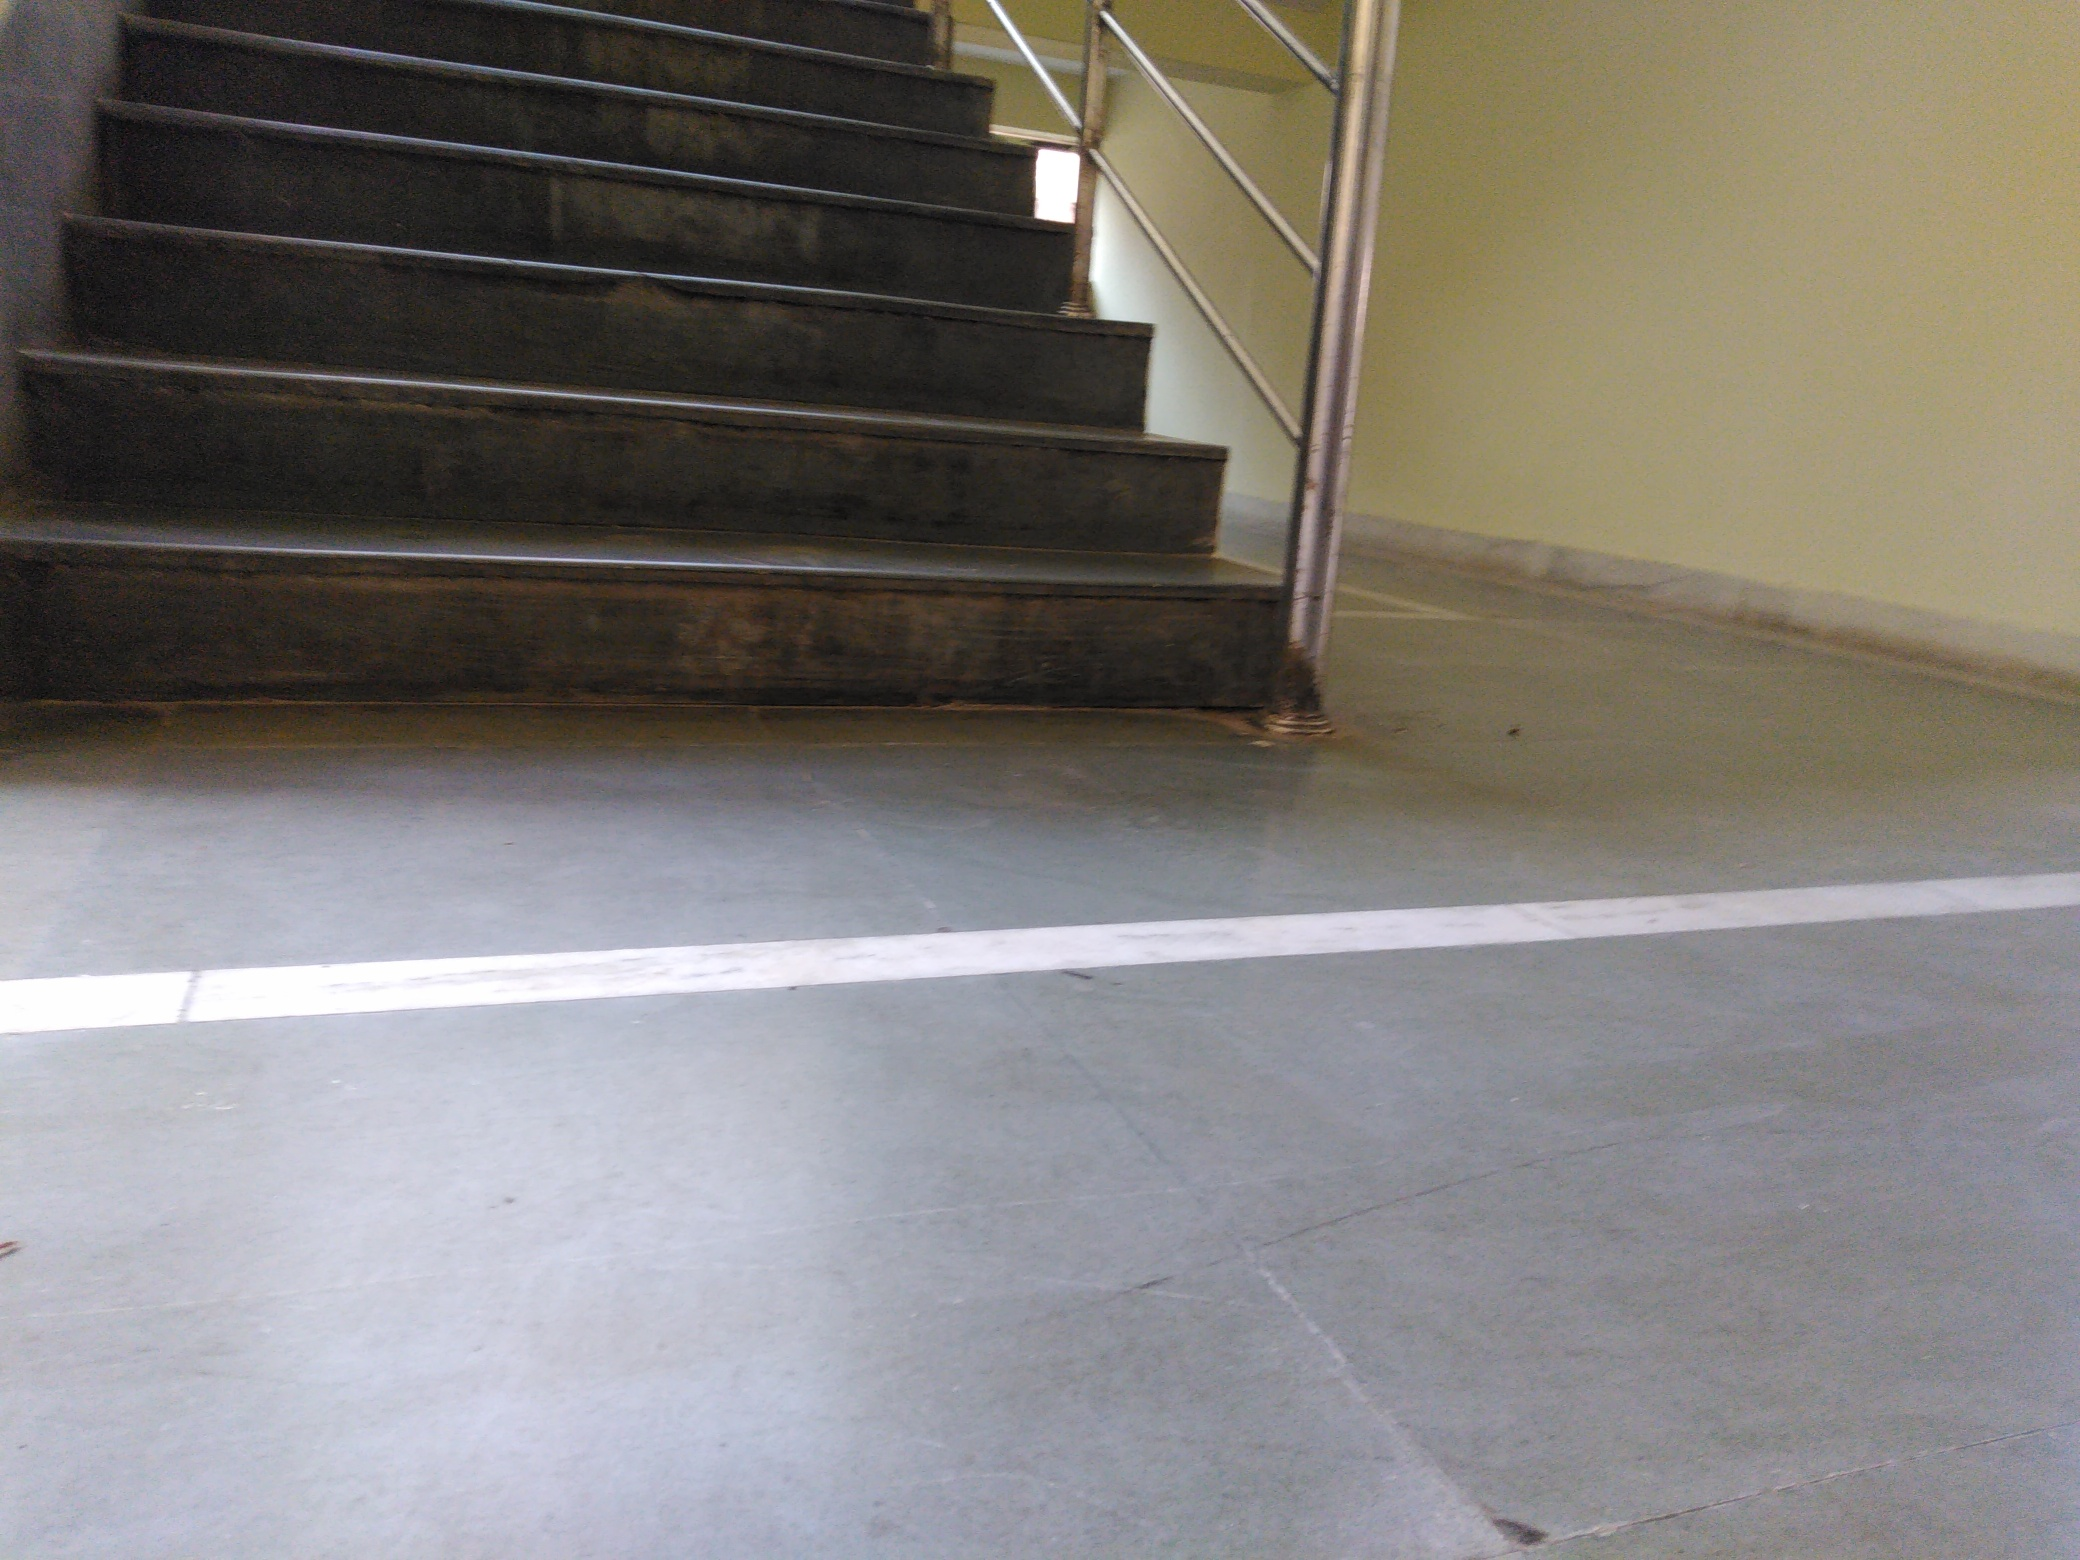stairs_up: (10, 26, 1277, 723)
